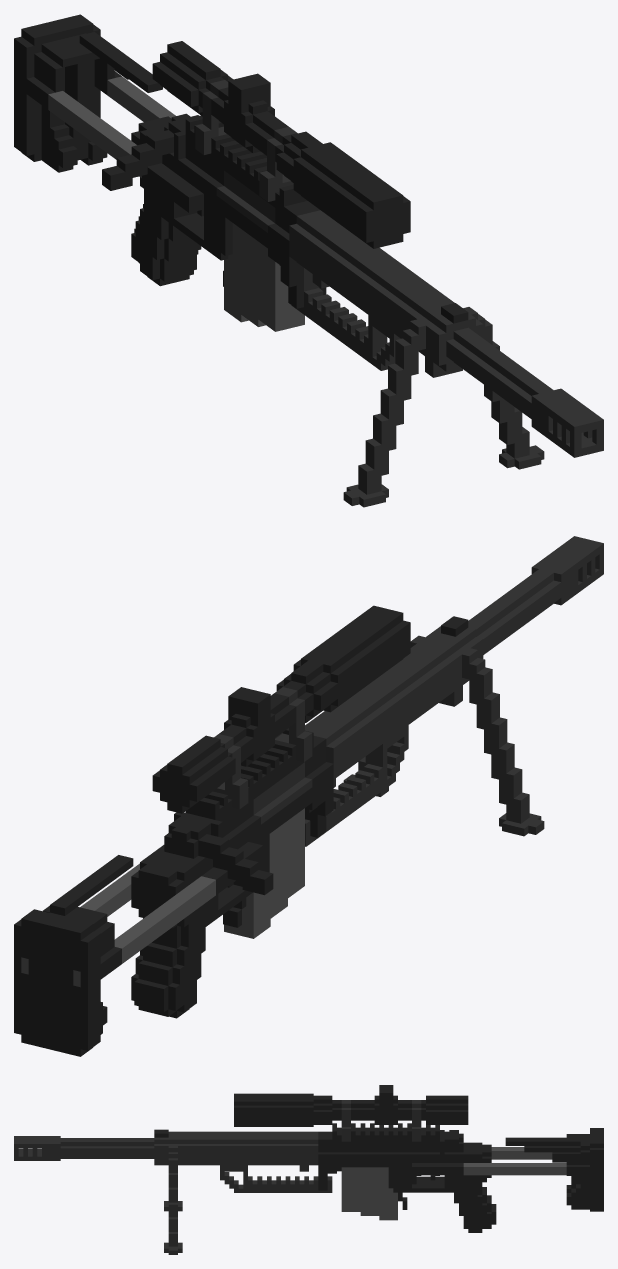
File: SniperRifle_1.obj
3 views of the same model, one above another, from view 1: azimuth 30°, elevation 25°; view 2: azimuth 150°, elevation 25°; view 3: azimuth 270°, elevation 25° (orthographic). The views are drawn at different scales.
Size of the model in its own units: 26 by 33 by 126.
